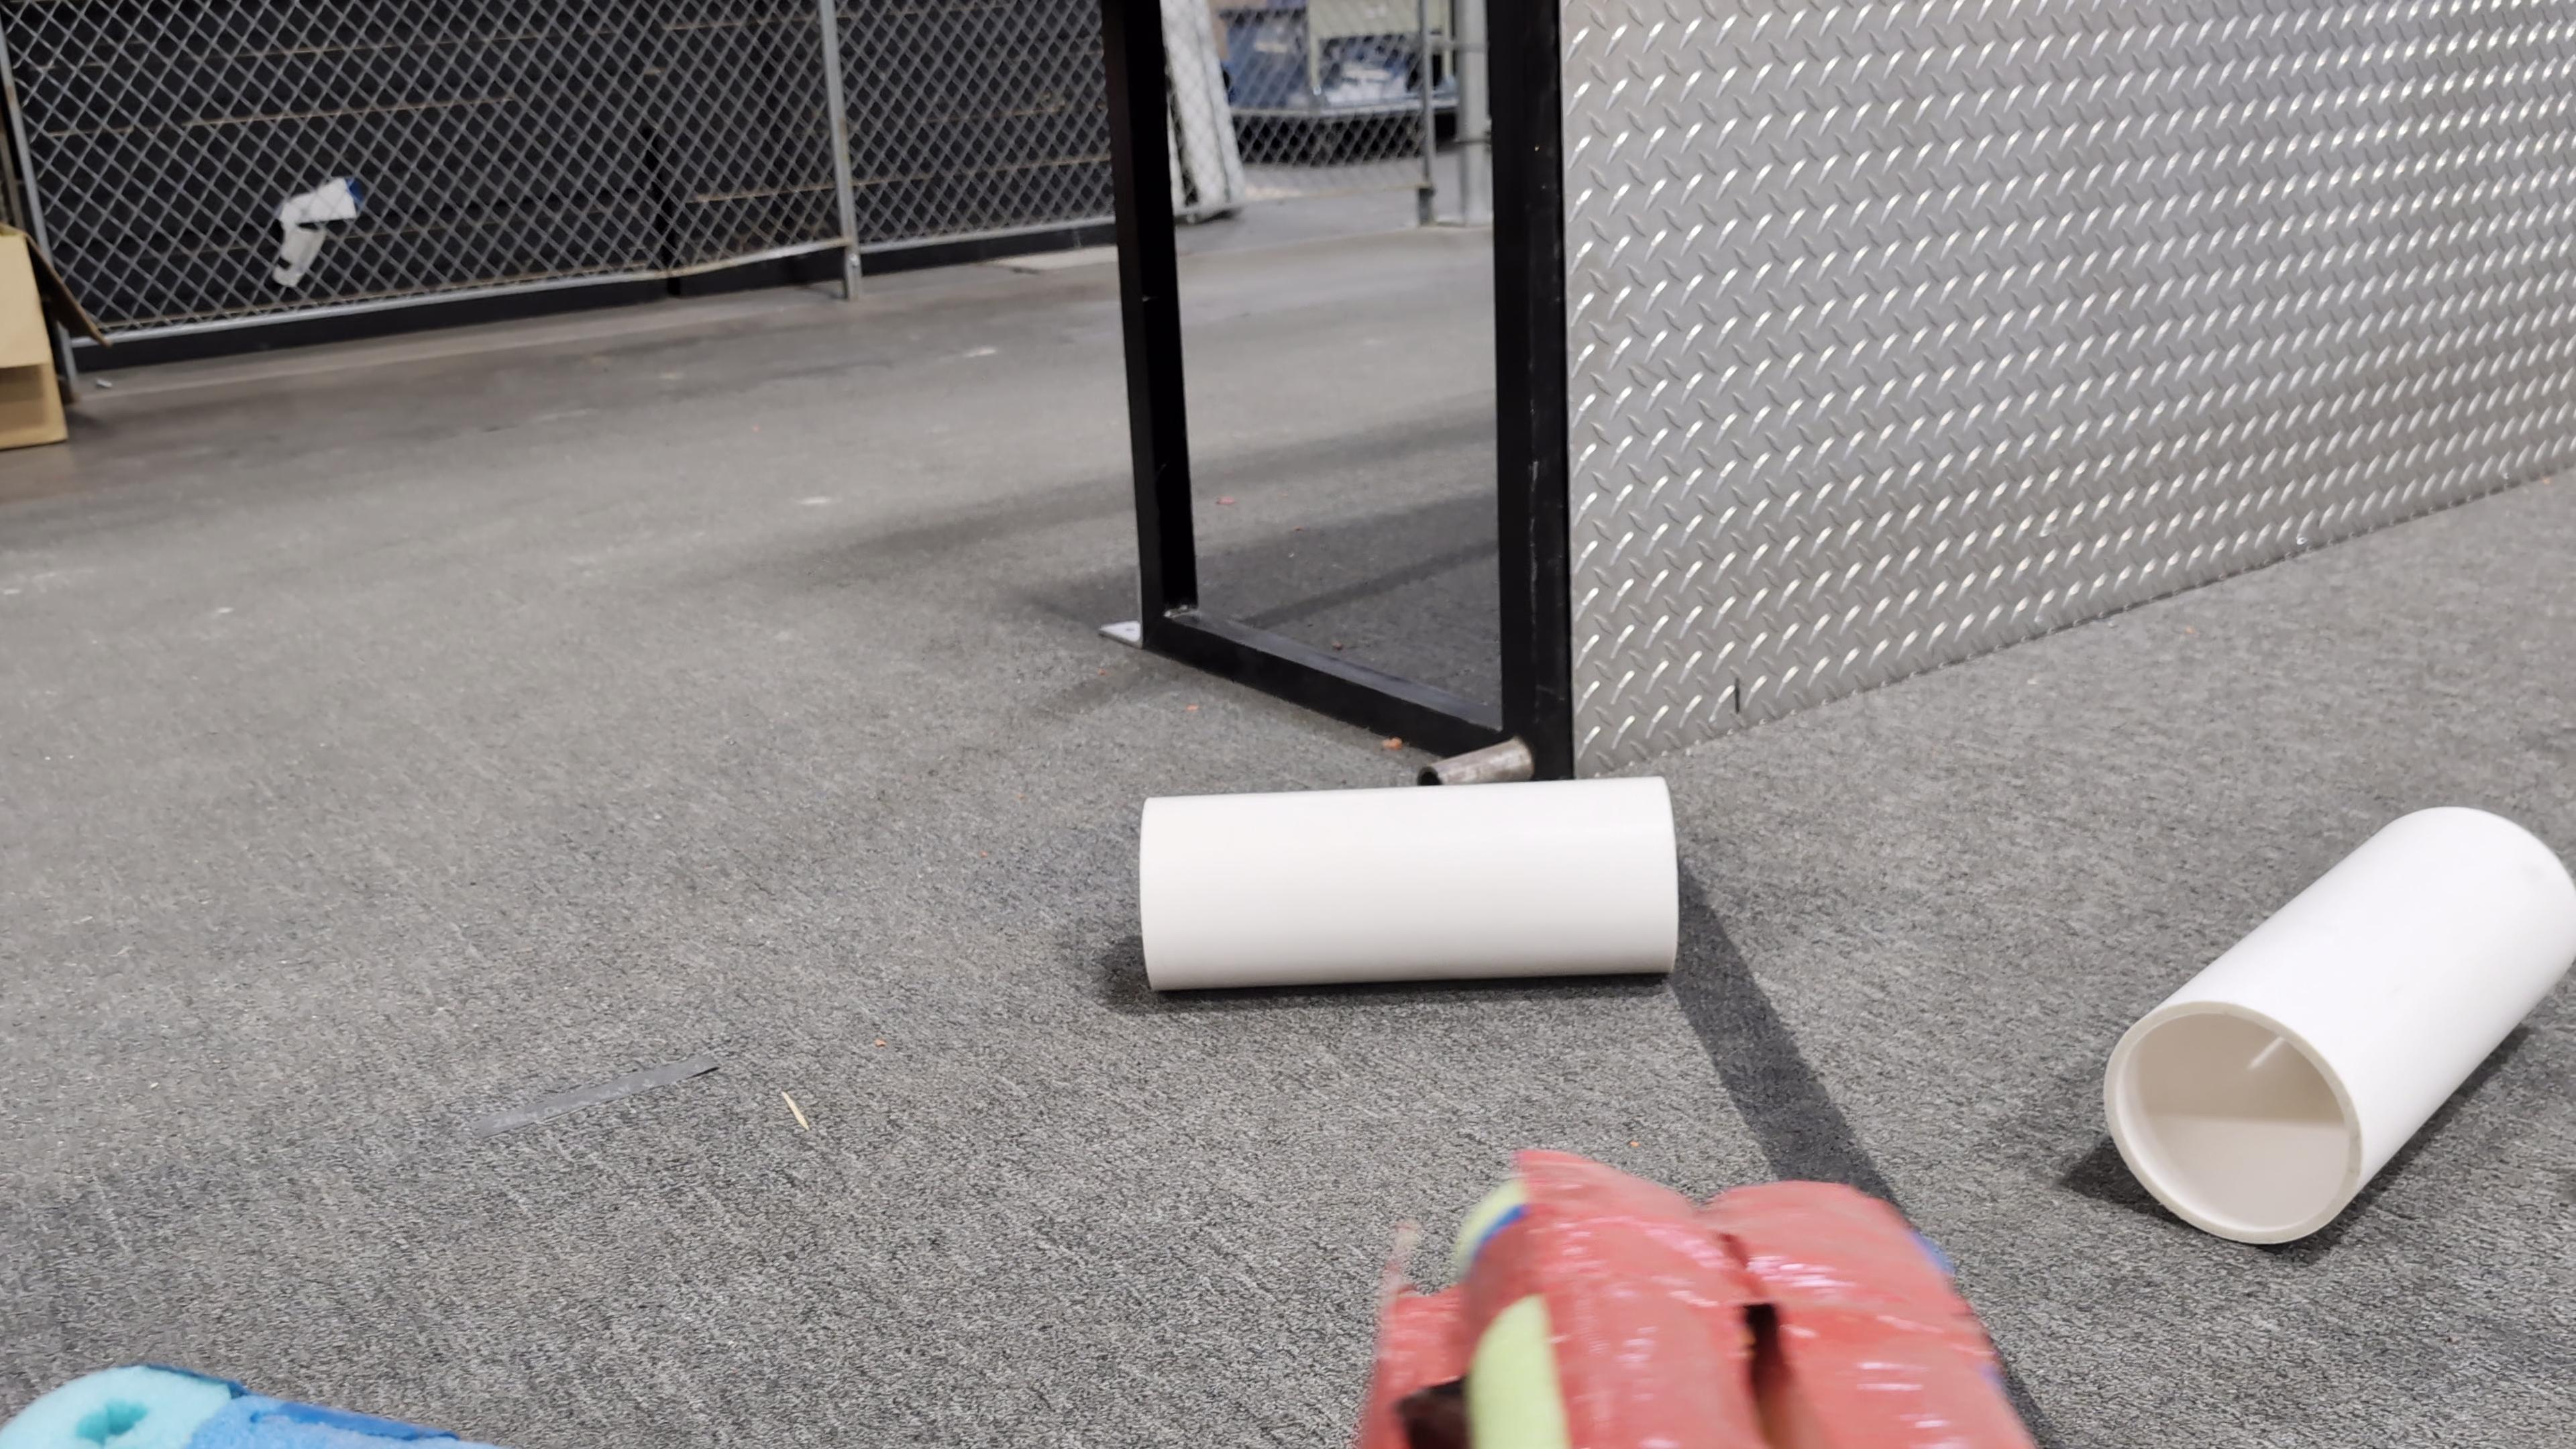coral: (2102, 801, 2574, 1242), (1136, 770, 1679, 991)
